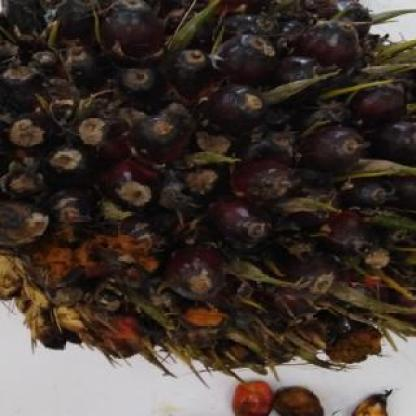Unripe: (0, 0, 416, 365)
